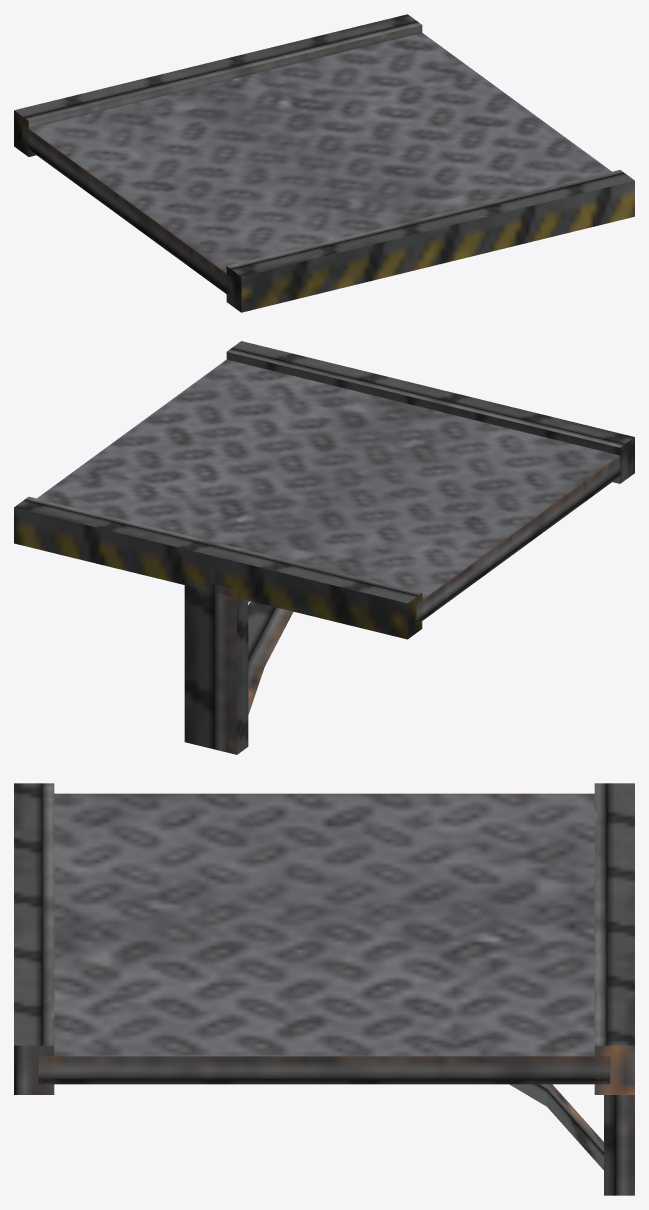
File: MO_METAL_WALKWAY_WALL.fbx
3 views of the same model, one above another, from view 1: azimuth 30°, elevation 25°; view 2: azimuth 150°, elevation 25°; view 3: azimuth 270°, elevation 25° (orthographic). The views are drawn at different scales.
Visible parts, largest first — view 1: MO_METAL_WALKWAY_WALL; view 2: MO_METAL_WALKWAY_WALL; view 3: MO_METAL_WALKWAY_WALL.
Boxes of the visible parts, left/top/right/bottom form: MO_METAL_WALKWAY_WALL: left=14, top=14, right=634, bottom=312; MO_METAL_WALKWAY_WALL: left=14, top=341, right=634, bottom=754; MO_METAL_WALKWAY_WALL: left=14, top=783, right=634, bottom=1195.
Size of the model in its own units: 2 by 0.9376 by 2.
